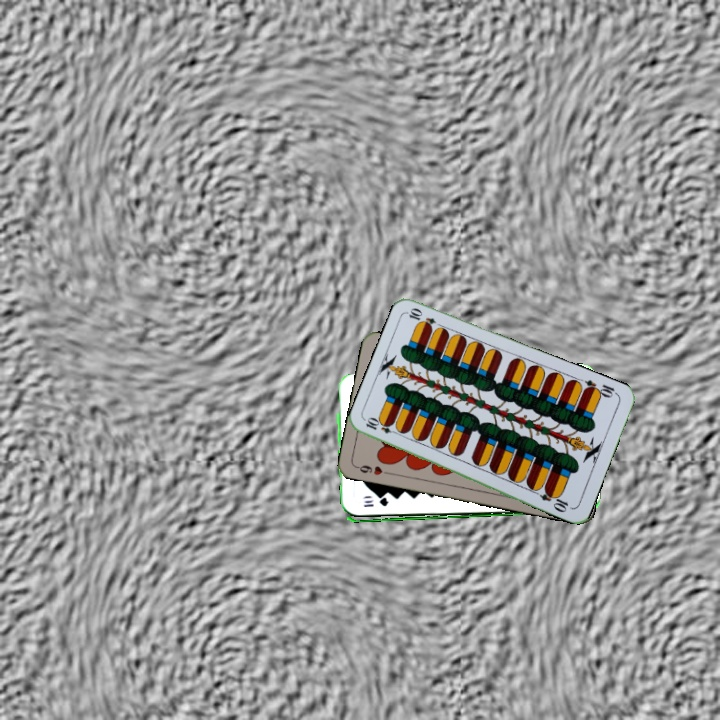E10: (580, 375, 620, 400), (362, 415, 402, 437)
G10: (360, 496, 391, 509)
H9: (352, 461, 393, 478)
